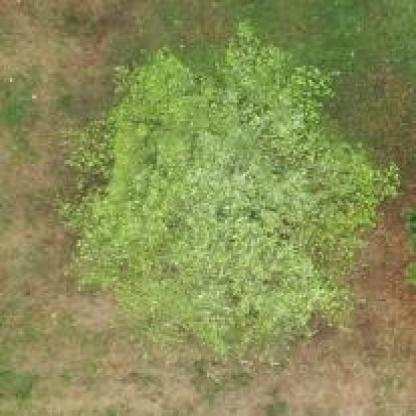Deciduous Tree: (56, 34, 400, 370)
